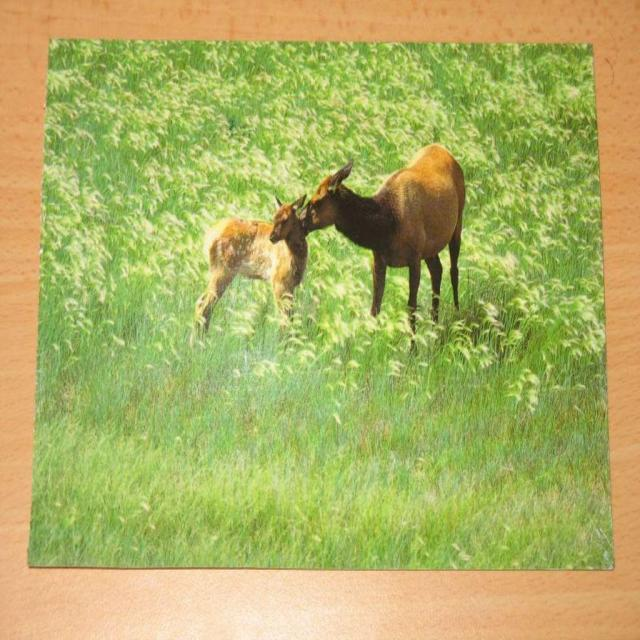Deer: (300, 134, 465, 347), (197, 191, 309, 339)
